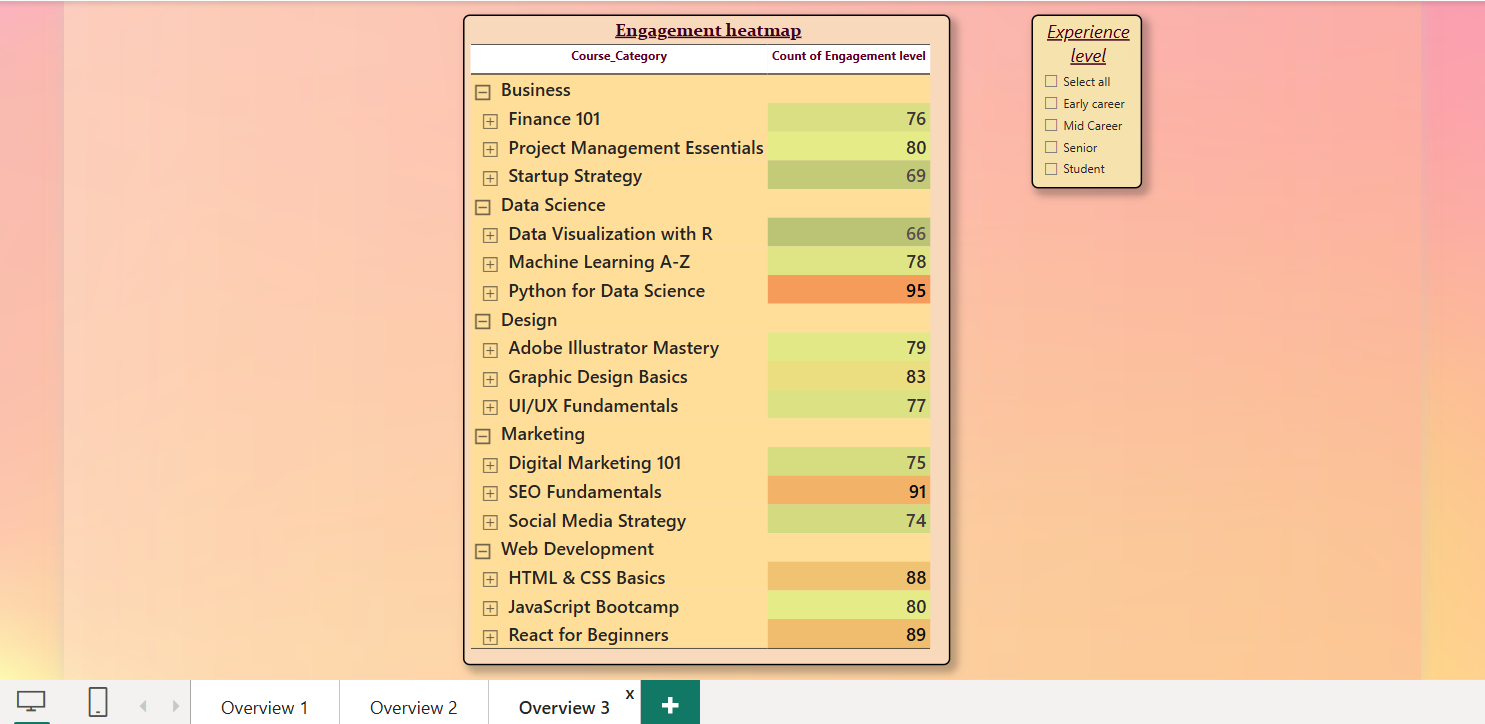

What the dashboard file says about the page in this screenshot:
{"tool":"powerbi","page":{"name":"Overview 3","canvas":[1800,900],"ordinal":2},"visuals":[{"type":"pivotTable","title":"Engagement  heatmap","fields":{"Values":["CountNonNull(Cleaned Data.Engagement level)"],"Rows":["Cleaned Data.Course_Category Hierarchy.Course_Category","Cleaned Data.Course_Category Hierarchy.Course_Name","Cleaned Data.Course_Category Hierarchy.Country","Cleaned Data.Course_Category Hierarchy.Gender"]},"box":[528.9,17.9,646.2,862.9],"z":1000},{"type":"slicer","title":"Experience level","fields":{"Values":["Cleaned Data.Experience level"]},"box":[1283.4,17.8,146.5,230.9],"z":2001}]}

Visuals, with their boxes in screenshot pixels (x1, y1, x2, y2):
"Engagement  heatmap" pivotTable: select_region(455, 10, 948, 669)
"Experience level" slicer: select_region(1031, 10, 1143, 186)
